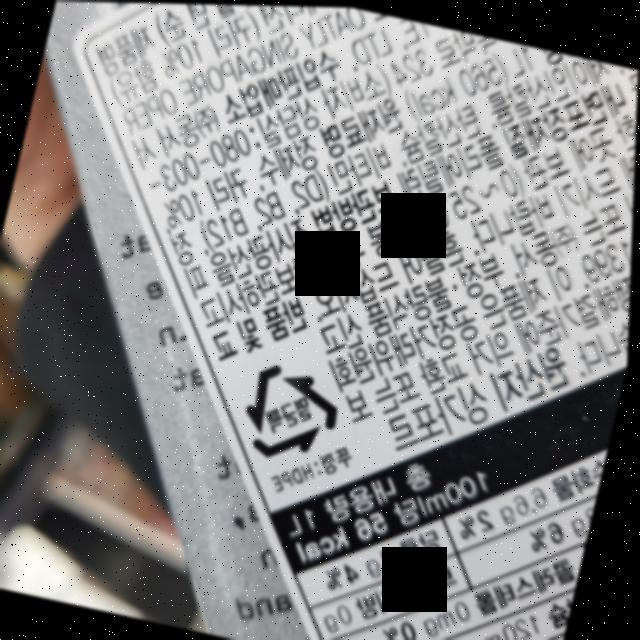SterilizedPack: (242, 348, 345, 466)
